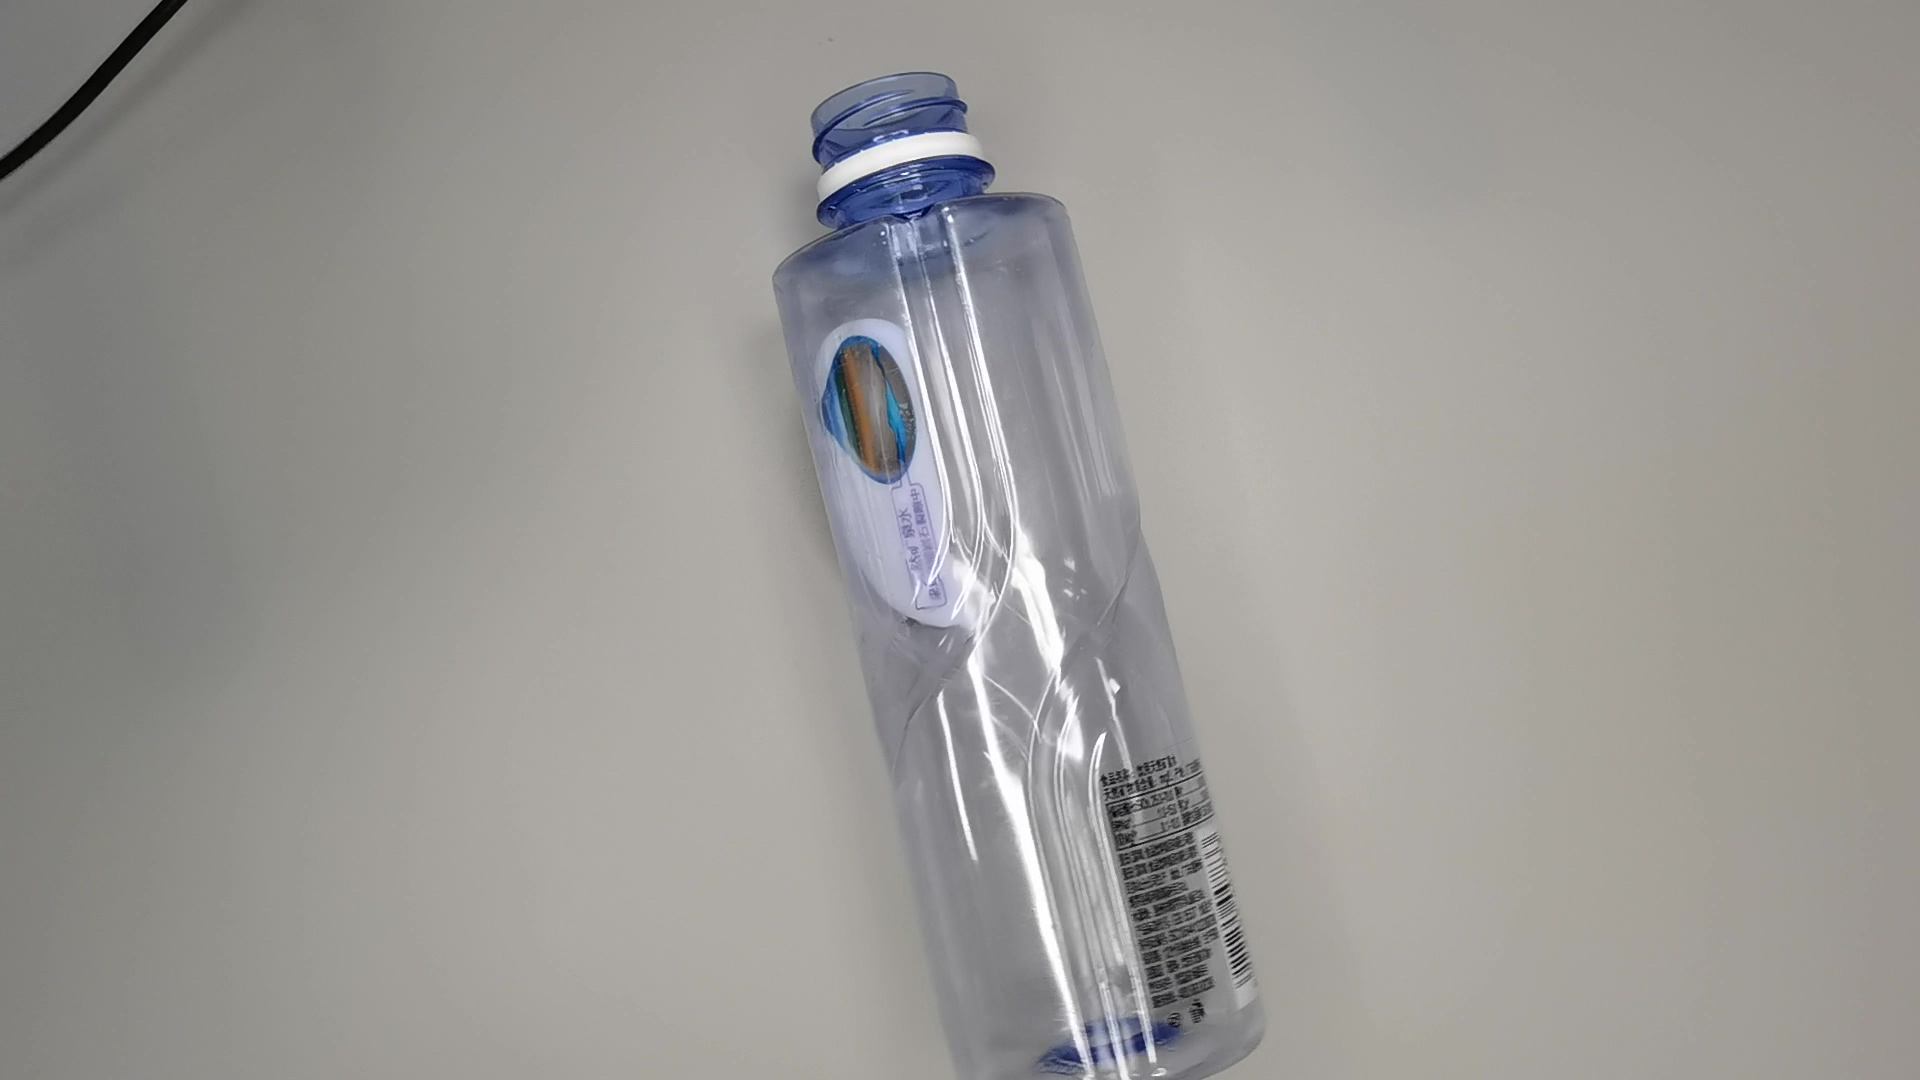bottle: (764, 67, 1280, 1080)
